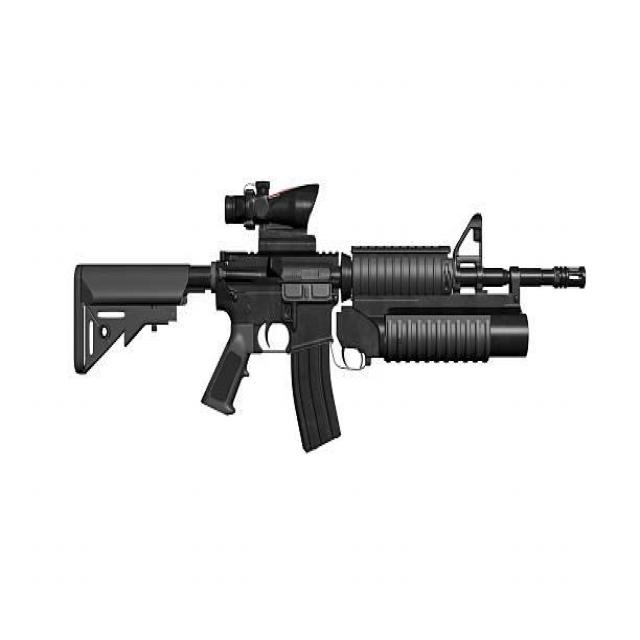heavy-weapon: (74, 181, 587, 456)
